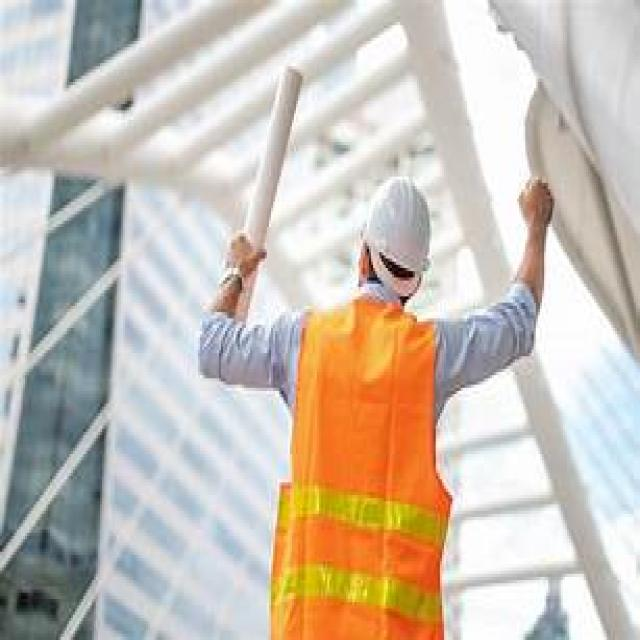not-gloved: (518, 162, 560, 247), (212, 229, 262, 298)
